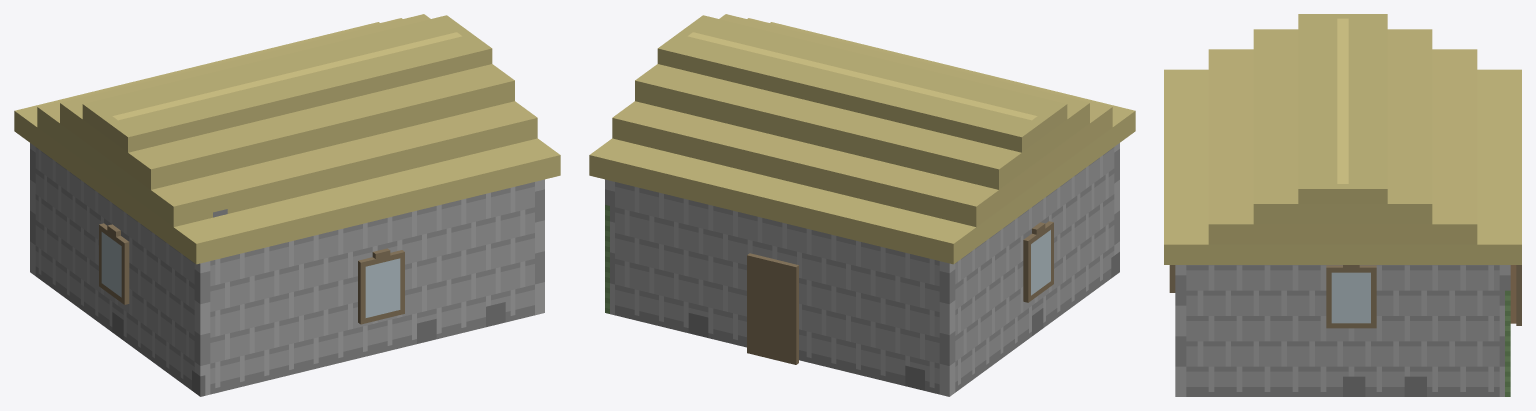
Rendered from casa_humilde_04.glb.
The picture shows the model from 3 angles, left to right: view 1: azimuth 30°, elevation 25°; view 2: azimuth 150°, elevation 25°; view 3: azimuth 270°, elevation 25°; orthographic projection.
Parts seen in each view (by area): view 1: casa_humilde_04; view 2: casa_humilde_04; view 3: casa_humilde_04.
Boxes of the visible parts, box(x1,y1,x2,y2) form: casa_humilde_04: box(14, 14, 560, 396); casa_humilde_04: box(589, 14, 1135, 396); casa_humilde_04: box(1164, 14, 1521, 396).
Size of the model in its own units: 7.4 by 4.2 by 6.4.
